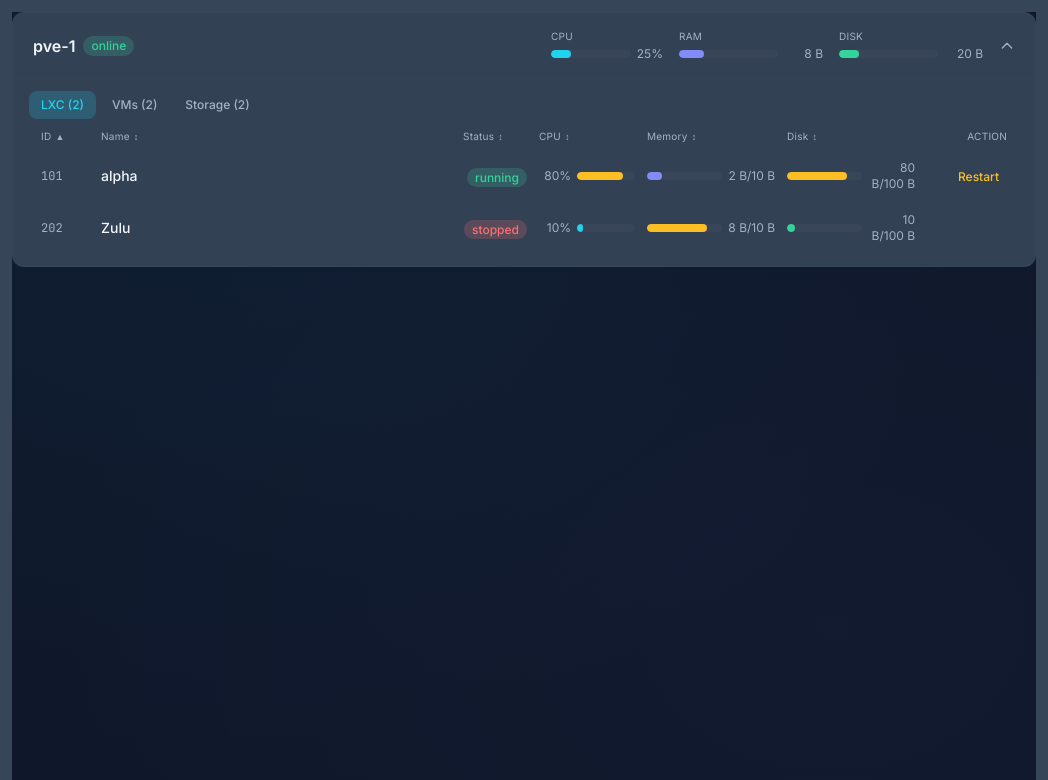
Test: NodeCard search behavior › shows restart only for running guests and passes canonical guest details
Click the button with aria-label "Restart LXC container alpha (101)" at (978, 177), box [950,165,1007,189]
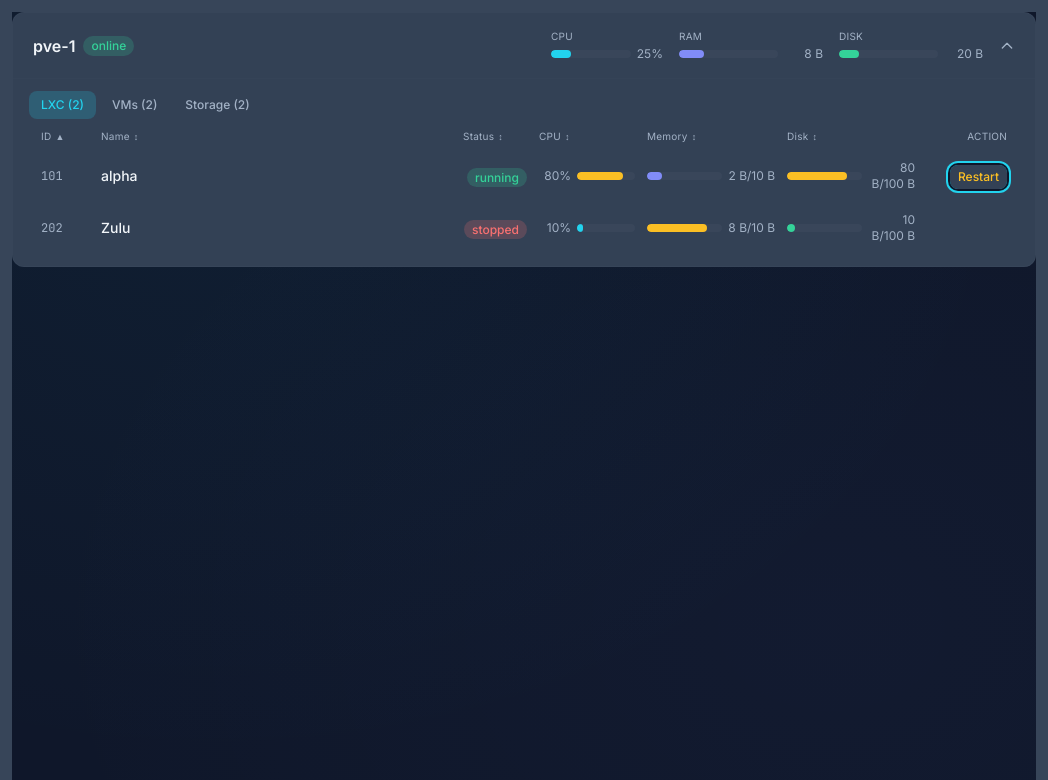
Click the tab "VMs (2)" at (135, 105), box [100,91,169,119]
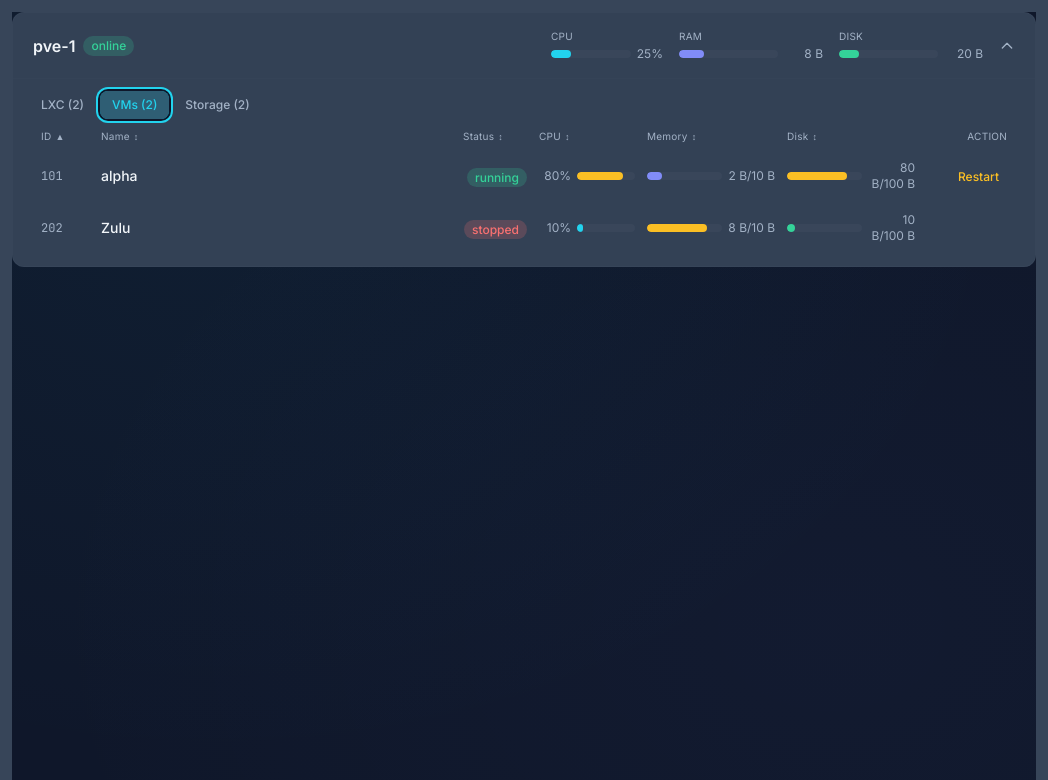
Now the button with aria-label "Restart VM alpha (101)" is shown, box [950,165,1007,189]
